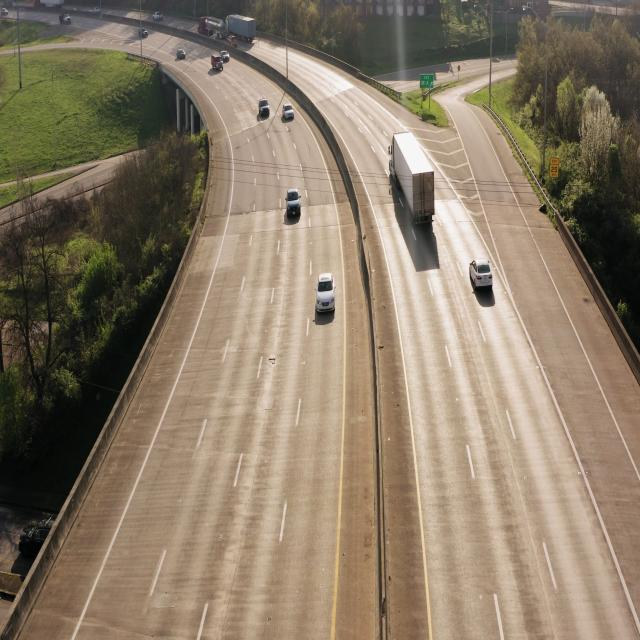Car: (388, 129, 440, 237), (469, 253, 495, 299), (316, 269, 337, 323), (284, 186, 304, 225), (280, 97, 296, 124), (257, 98, 272, 121)
